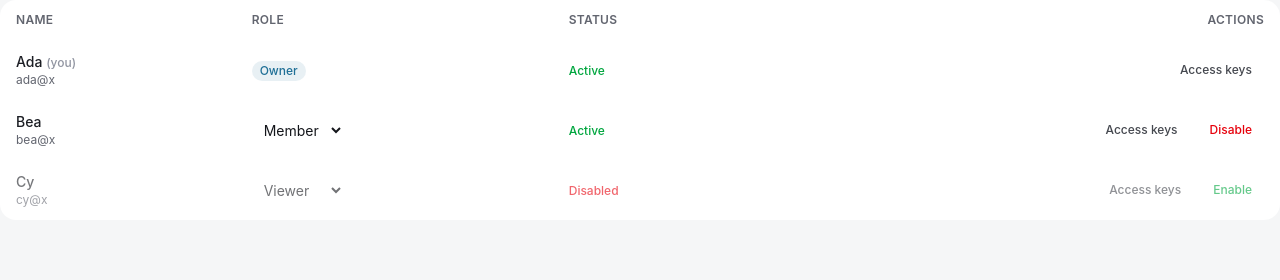
Test: UsersManager › expanding the admin's OWN Keys shows the self-service hint (no provisioning to self)
This screenshot has width=1280, height=280.
Click the button "Access keys" in the row of "(you)" at (1216, 70), box [1168, 56, 1264, 84]
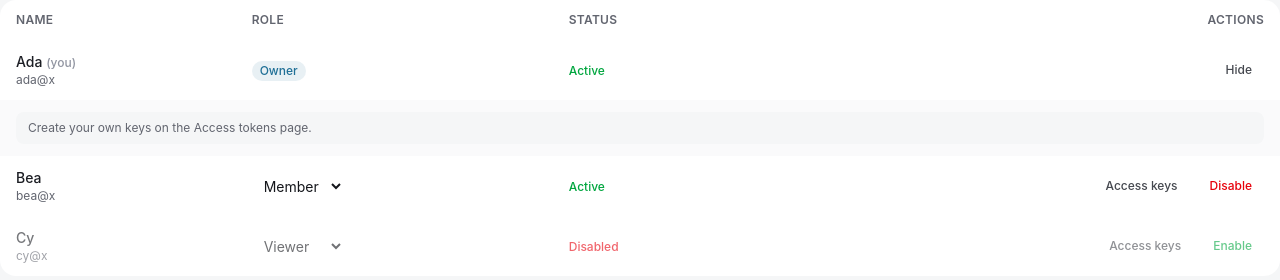
Check: the text "Create your own keys on the Access tokens page." is shown, box [16, 112, 1264, 144]
